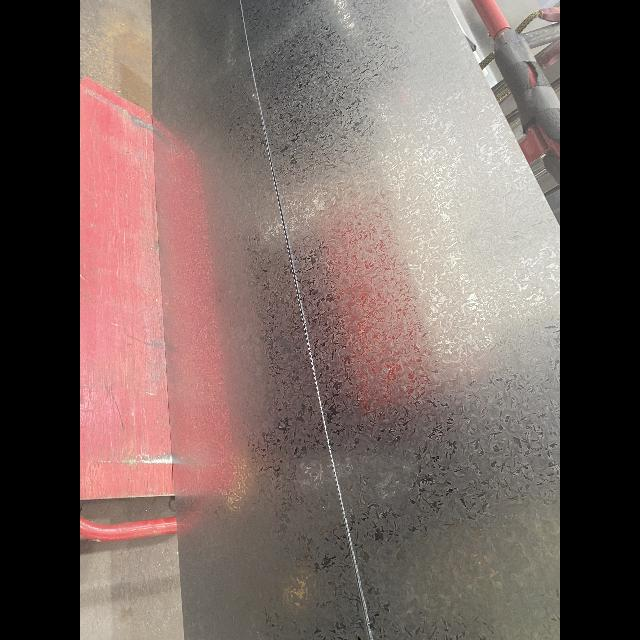Ferrous Metal: (80, 77, 172, 500), (80, 516, 177, 541)
Galvanized Steel: (152, 0, 559, 640)
